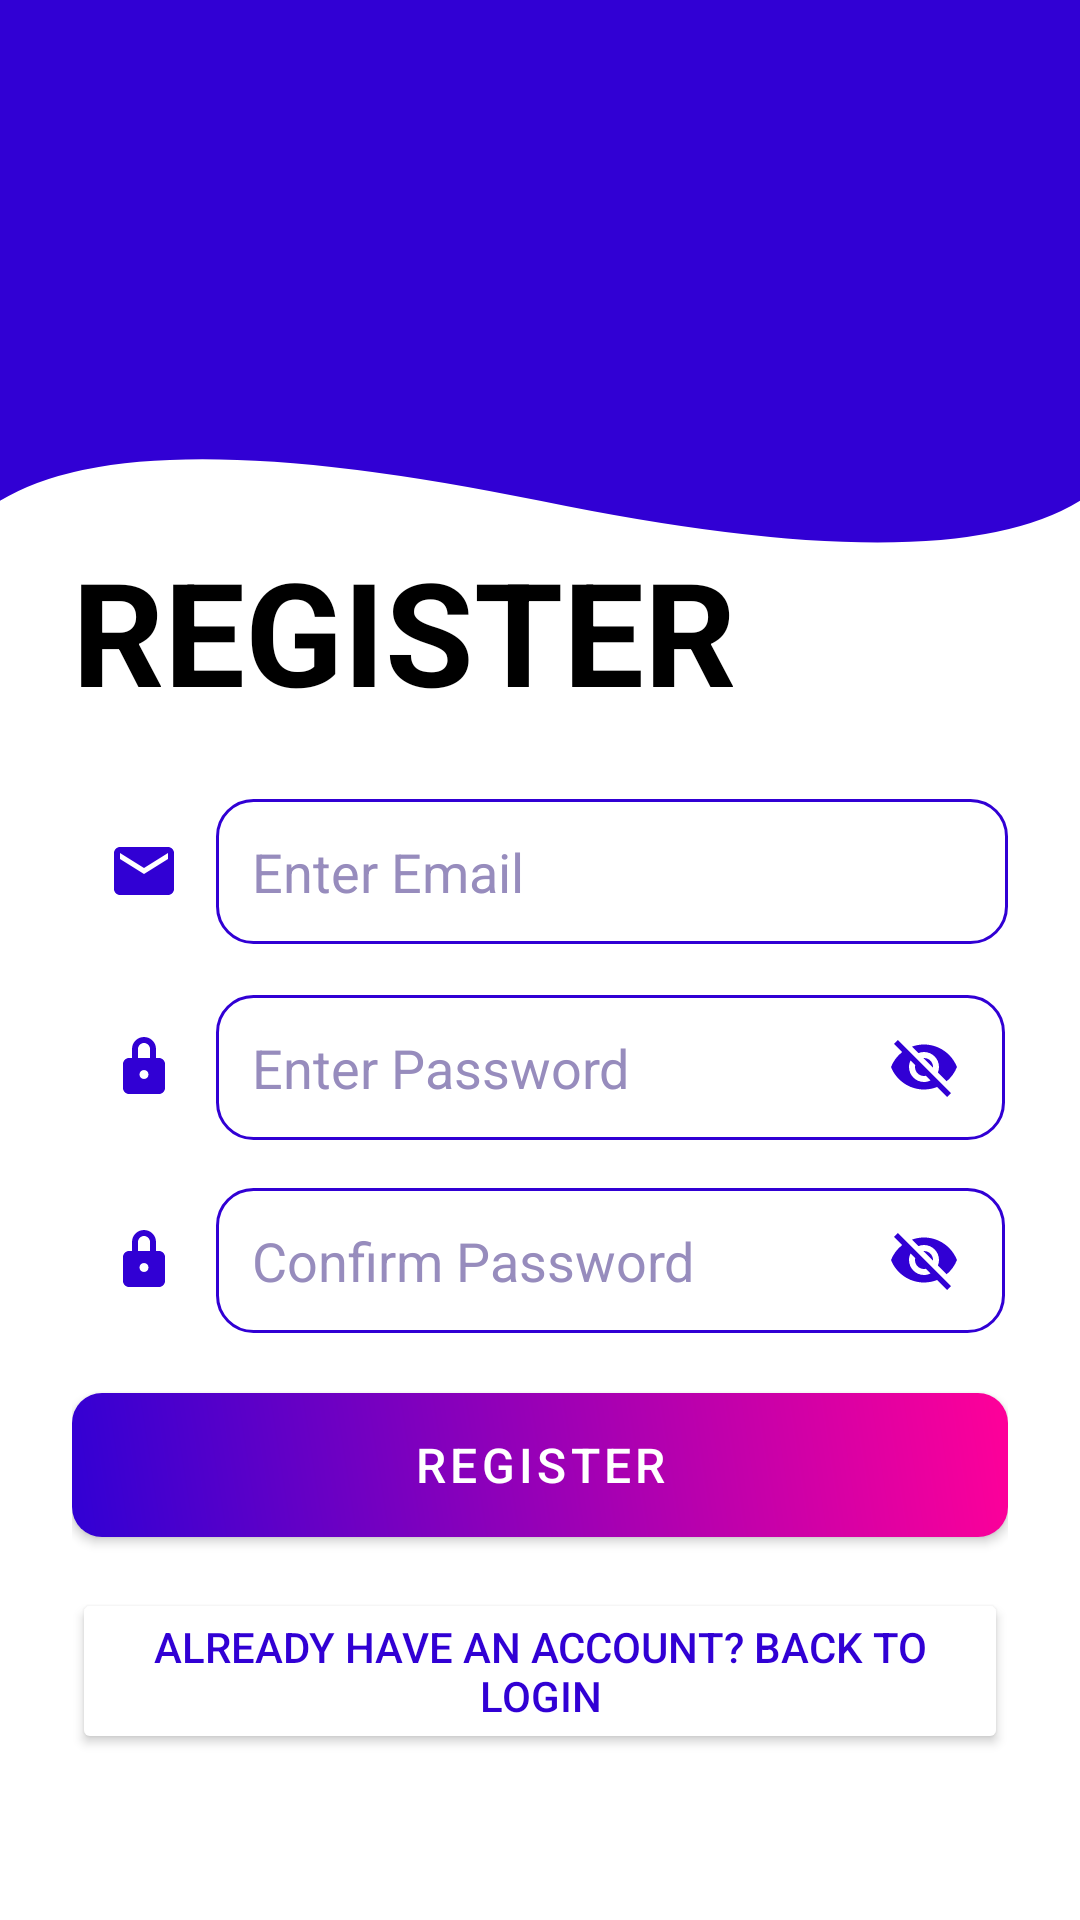

Where to tap for icons on this 1080w x 1920h app screen, as point (x, y):
Lock Icon: point (144, 1065)
Mail Icon: point (144, 871)
Toggle password visibility: point (924, 1068)
